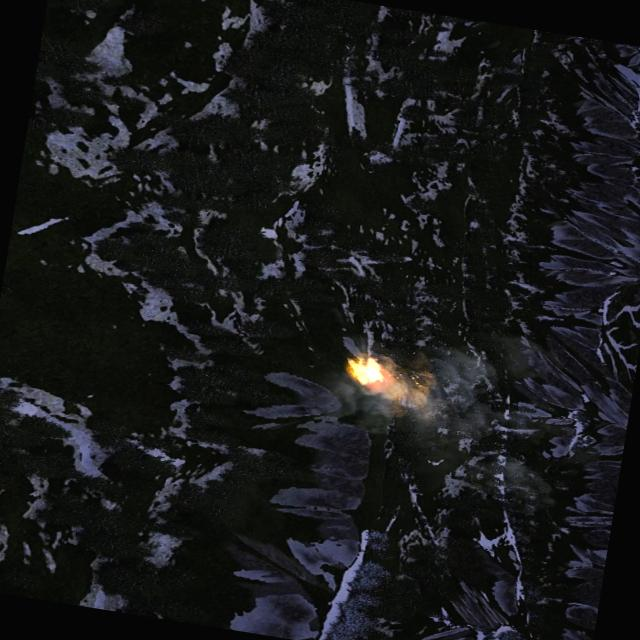fire: (345, 353, 389, 388)
smoke: (299, 310, 574, 505)
